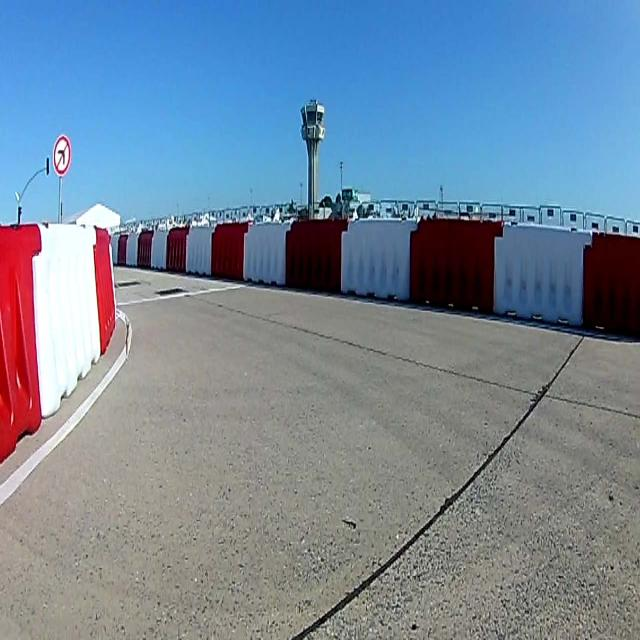soladonulmez: (54, 136, 72, 175)
